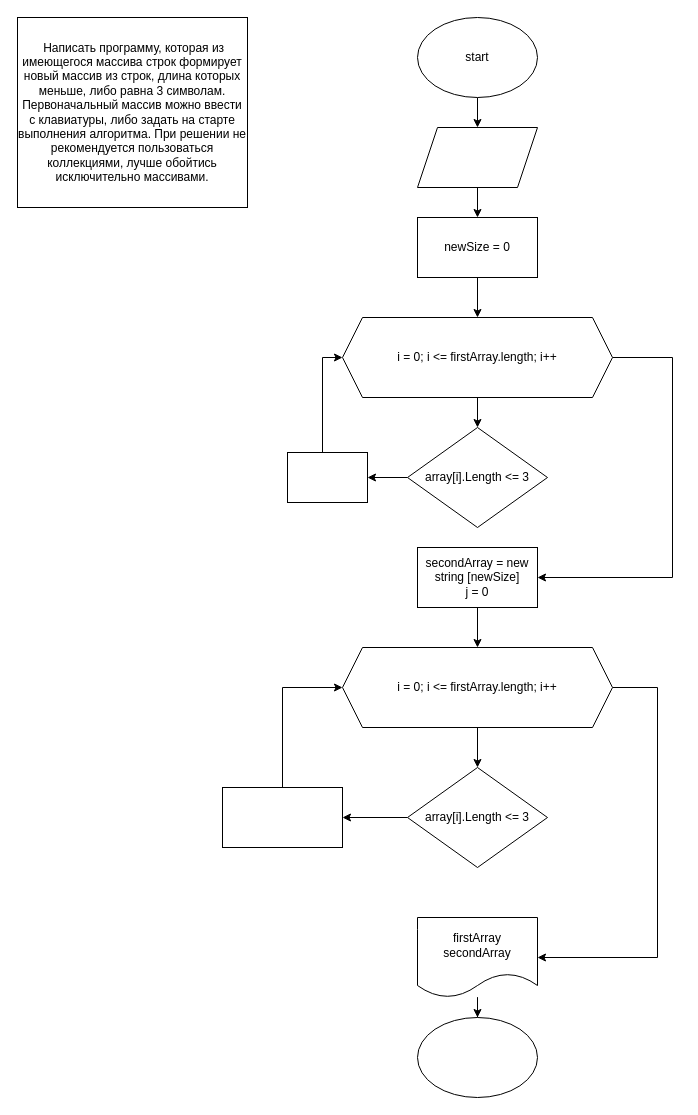
Image size: 698x1115. Some labels were removed from this diagram. The centre of each missing label's shape, as x and y in pixels:
end: [477,1057]
firstArray: [477,157]
newSize++: [327,477]
secondArray[j] = firstArray[i] j++: [282,817]
